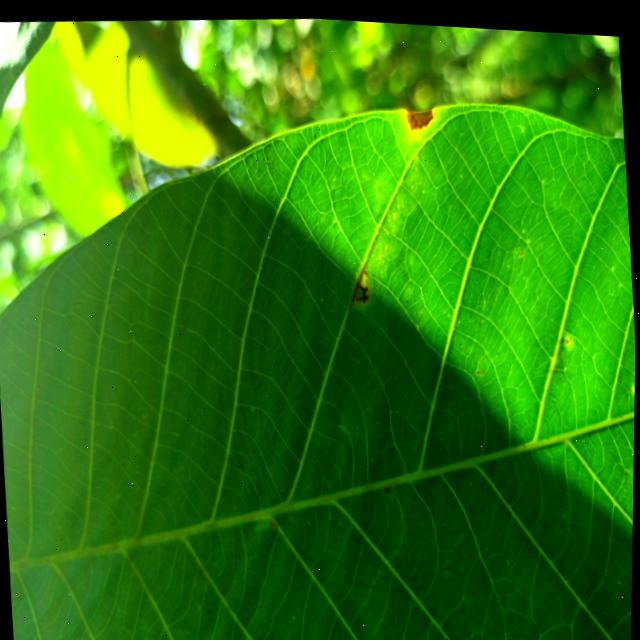Colletotrichum: (405, 102, 433, 126)
